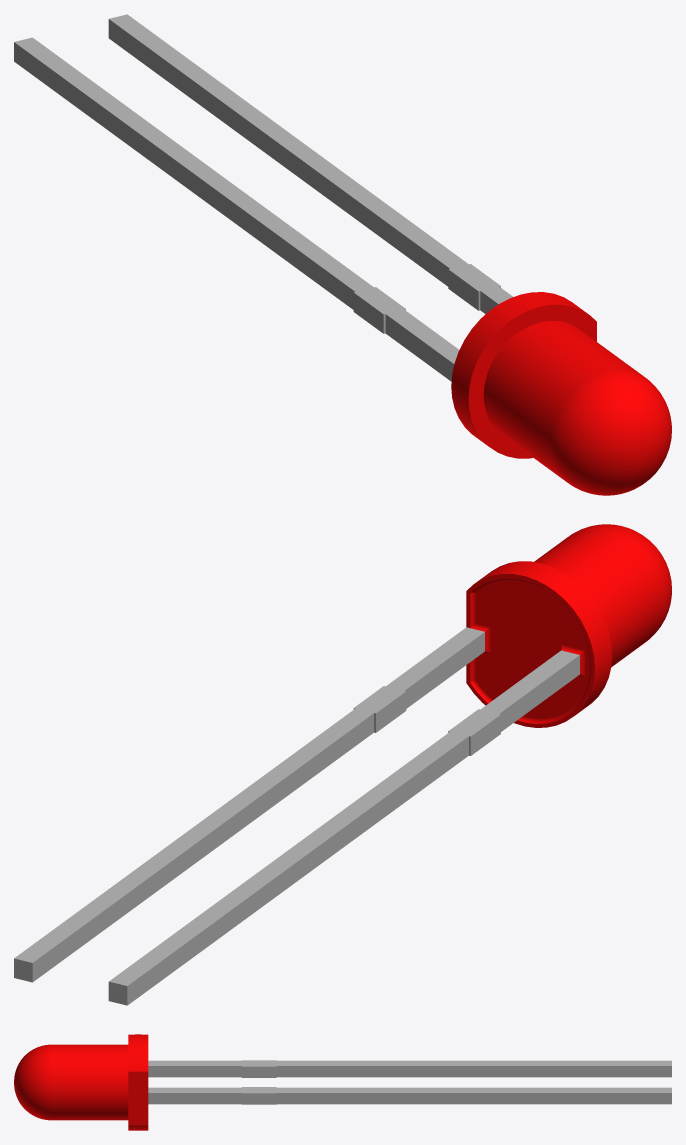
File: LED 3mm Red 21mm Leads v1.fbx
3 renders of one model, top to bottom at view 1: azimuth 30°, elevation 25°; view 2: azimuth 150°, elevation 25°; view 3: azimuth 270°, elevation 25°, orthographic. The views are drawn at different scales.
Visible parts, largest first — view 1: Body1 (×3); view 2: Body1 (×3); view 3: Body1 (×3).
Boxes of the visible parts, bbox=[...] form: Body1 (×3): bbox=[14, 14, 671, 495]; Body1 (×3): bbox=[14, 524, 671, 1005]; Body1 (×3): bbox=[14, 1034, 671, 1130].
Size of the model in its own units: 3.5 by 3.85 by 26.38.
